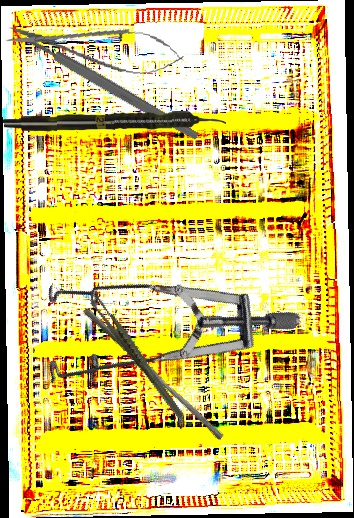Handpiece: (3, 110, 226, 134)
Micro Scissor: (2, 11, 188, 82)
Pusher: (77, 307, 229, 441)
Scalpel Handle: (25, 34, 200, 142)
Speculum: (8, 199, 303, 476)
Tissue Forceps: (88, 283, 185, 431)
